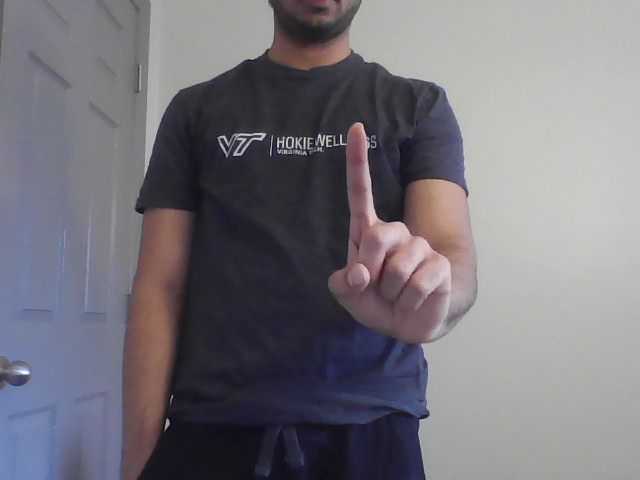one: (324, 121, 462, 349)
